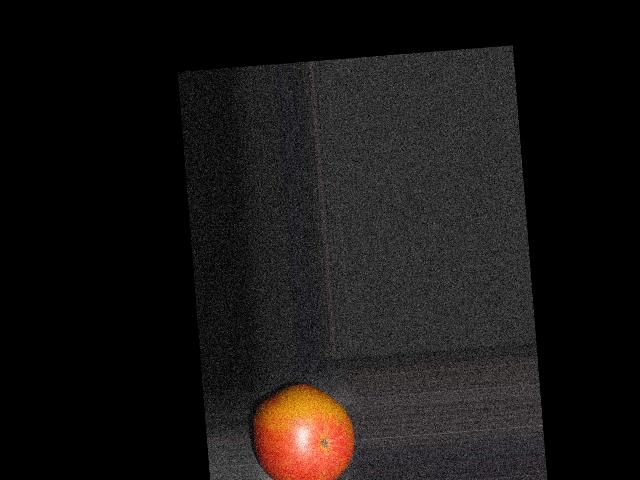tomato: (249, 381, 358, 480)
